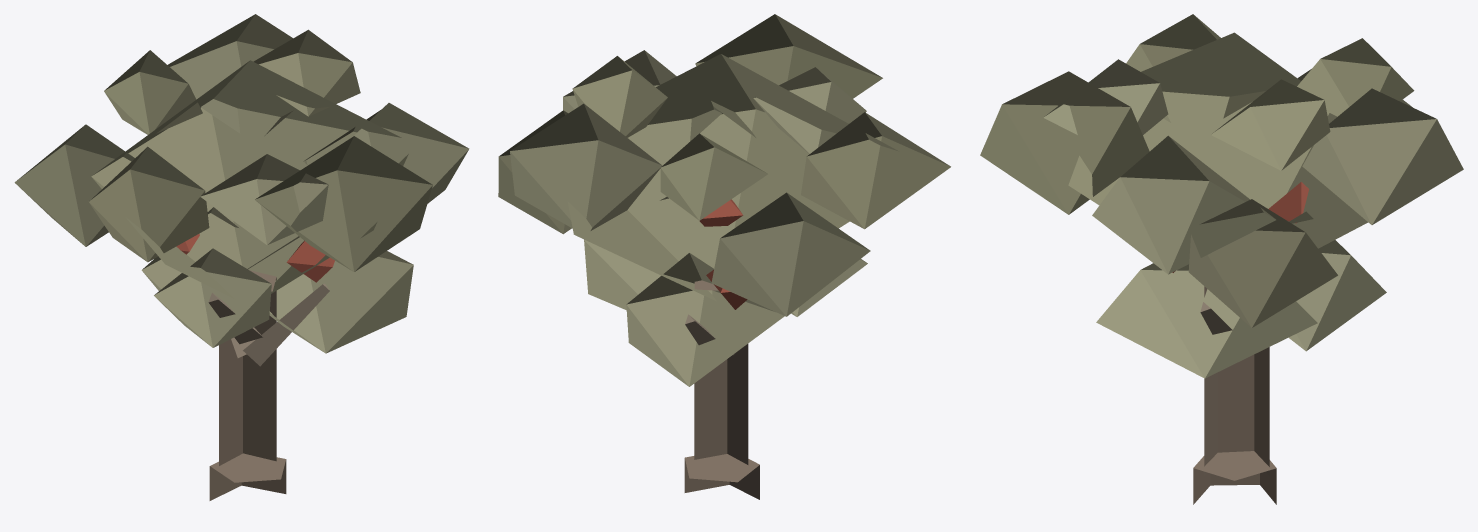
File: tree.temp.oak__winter.glb
3 views of the same model, side by side, from view 1: azimuth 30°, elevation 25°; view 2: azimuth 150°, elevation 25°; view 3: azimuth 270°, elevation 25° (orthographic). The views are drawn at different scales.
Parts seen in each view (by area): view 1: tree.temp.oak__winter; view 2: tree.temp.oak__winter; view 3: tree.temp.oak__winter.
Boxes of the visible parts, x1=… form: tree.temp.oak__winter: x1=14, y1=14, x2=469, y2=500; tree.temp.oak__winter: x1=498, y1=14, x2=950, y2=499; tree.temp.oak__winter: x1=980, y1=14, x2=1463, y2=504.
Bounding box in the file's own units: 12.19 × 13.09 × 12.29.
